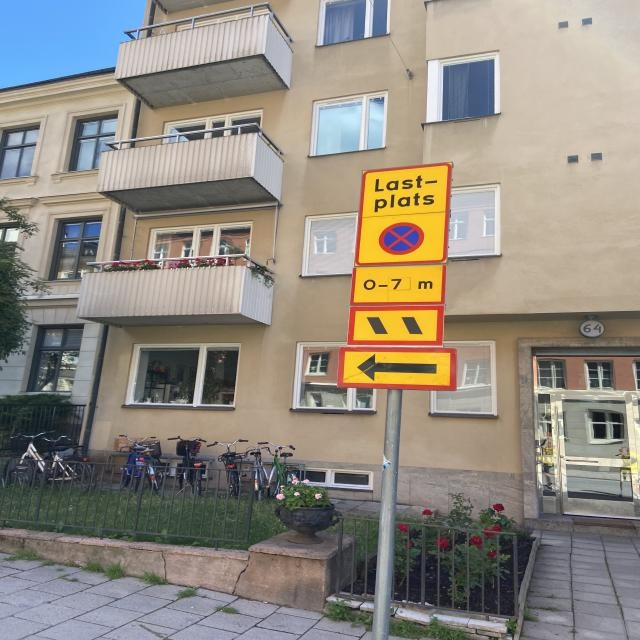lastplats: (351, 160, 455, 266)
